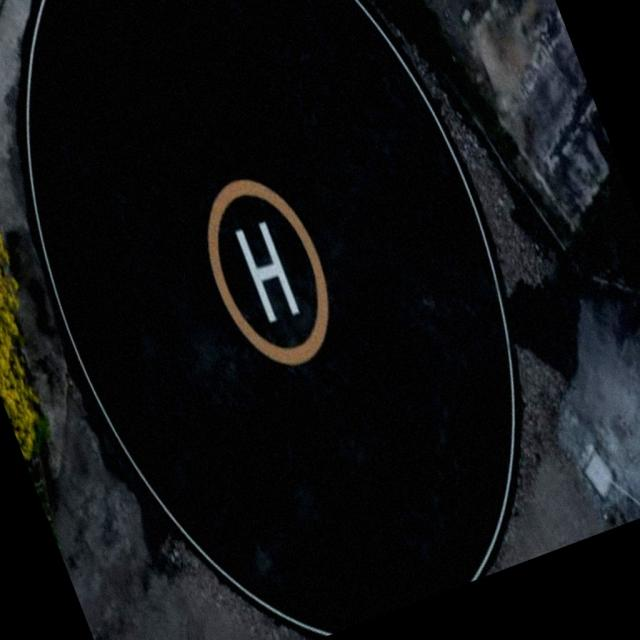helipad: (205, 176, 332, 367)
